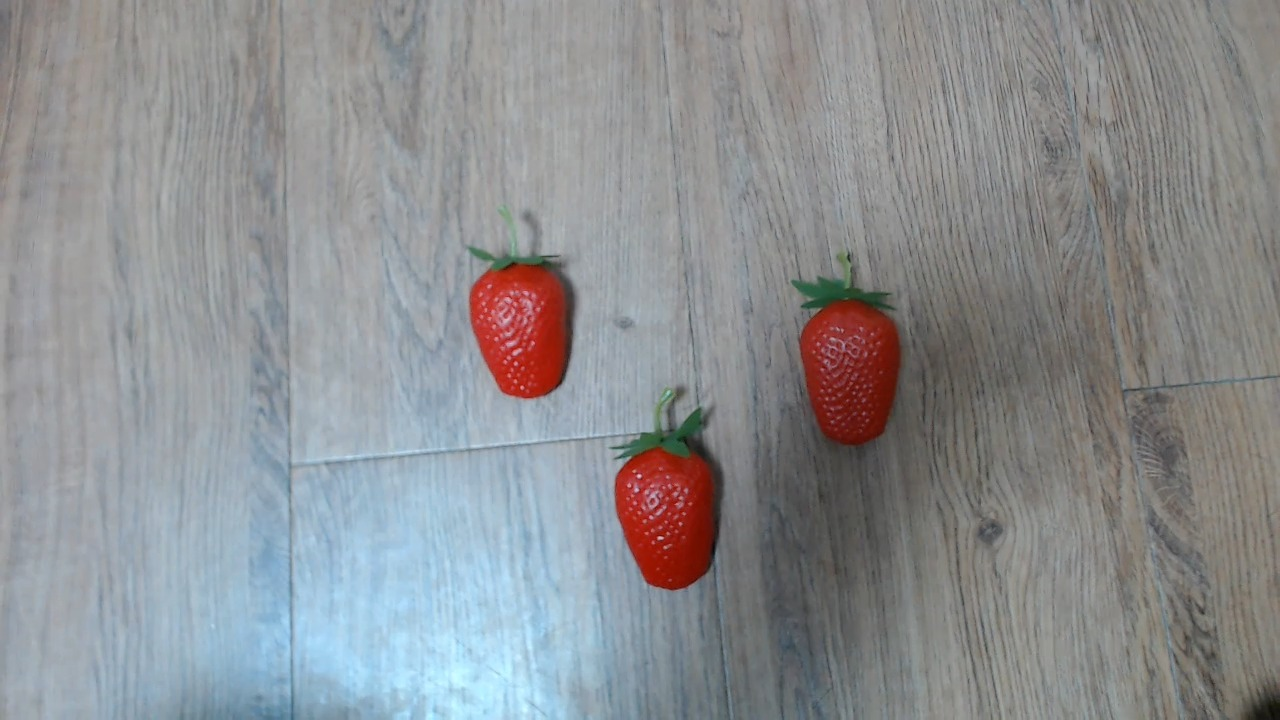strawberry: (611, 431, 718, 588), (795, 287, 901, 444), (473, 250, 572, 400)
